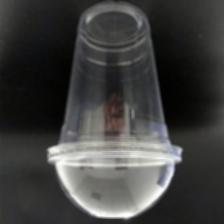glass: (44, 0, 188, 221)
